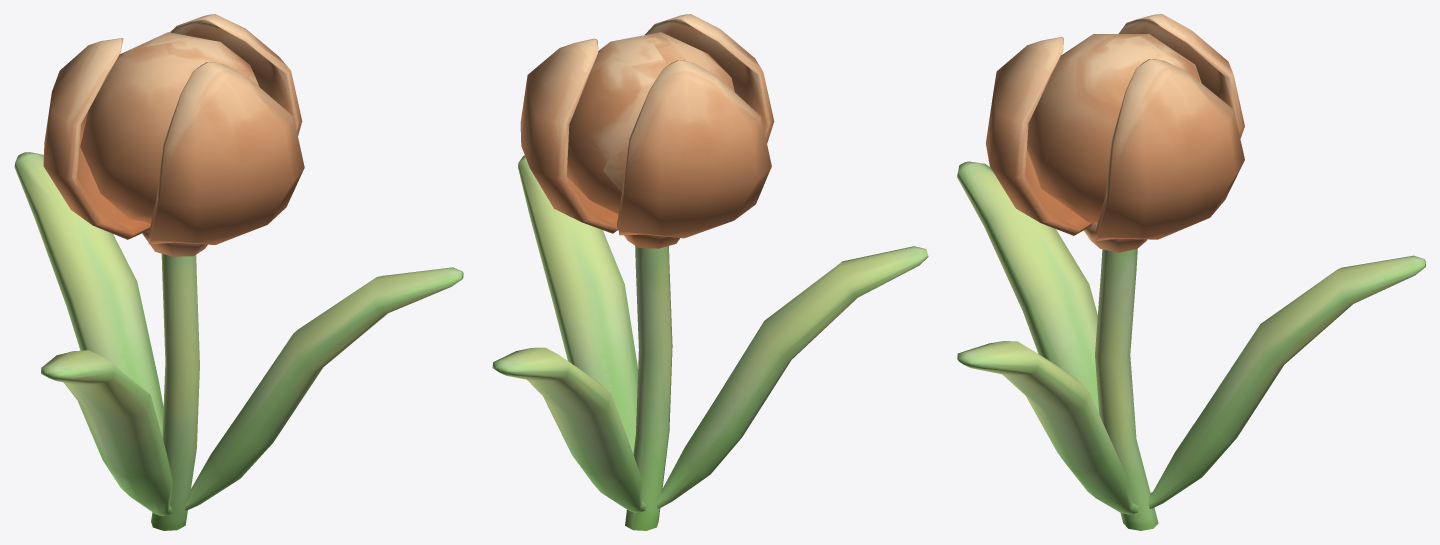
The model's file is Flower_Brown.fbx.
The picture shows the model from 3 angles, left to right: view 1: azimuth 30°, elevation 25°; view 2: azimuth 150°, elevation 25°; view 3: azimuth 270°, elevation 25°; orthographic projection. The views are drawn at different scales.
Visible parts, largest first — view 1: Flower_Leaf.004, Flower_Petal1.004, Flower_Pistil.004, Flower_Petal2.004, Flower_Stem.004, Flower_Receptacles.004; view 2: Flower_Leaf.004, Flower_Petal2.004, Flower_Pistil.004, Flower_Stem.004, Flower_Petal1.004, Flower_Receptacles.004; view 3: Flower_Leaf.004, Flower_Petal2.004, Flower_Pistil.004, Flower_Stem.004, Flower_Petal1.004, Flower_Receptacles.004.
Part boxes in pixels (left/top/right/bottom): Flower_Leaf.004: left=14, top=152, right=463, bottom=516; Flower_Petal1.004: left=147, top=62, right=304, bottom=244; Flower_Pistil.004: left=80, top=32, right=259, bottom=222; Flower_Petal2.004: left=43, top=14, right=302, bottom=239; Flower_Stem.004: left=151, top=254, right=199, bottom=530; Flower_Receptacles.004: left=142, top=222, right=207, bottom=256; Flower_Leaf.004: left=492, top=155, right=928, bottom=512; Flower_Petal2.004: left=520, top=38, right=771, bottom=238; Flower_Pistil.004: left=567, top=32, right=734, bottom=214; Flower_Stem.004: left=625, top=245, right=672, bottom=530; Flower_Petal1.004: left=645, top=14, right=774, bottom=143; Flower_Receptacles.004: left=624, top=234, right=679, bottom=248; Flower_Leaf.004: left=957, top=161, right=1425, bottom=514; Flower_Petal2.004: left=1091, top=14, right=1244, bottom=241; Flower_Pistil.004: left=1027, top=34, right=1201, bottom=222; Flower_Stem.004: left=1095, top=248, right=1158, bottom=530; Flower_Petal1.004: left=986, top=37, right=1092, bottom=235; Flower_Receptacles.004: left=1084, top=222, right=1147, bottom=252.
Bounding box in the file's own units: 48.22 × 54.22 × 47.51.
6 materials, 6 textured.
